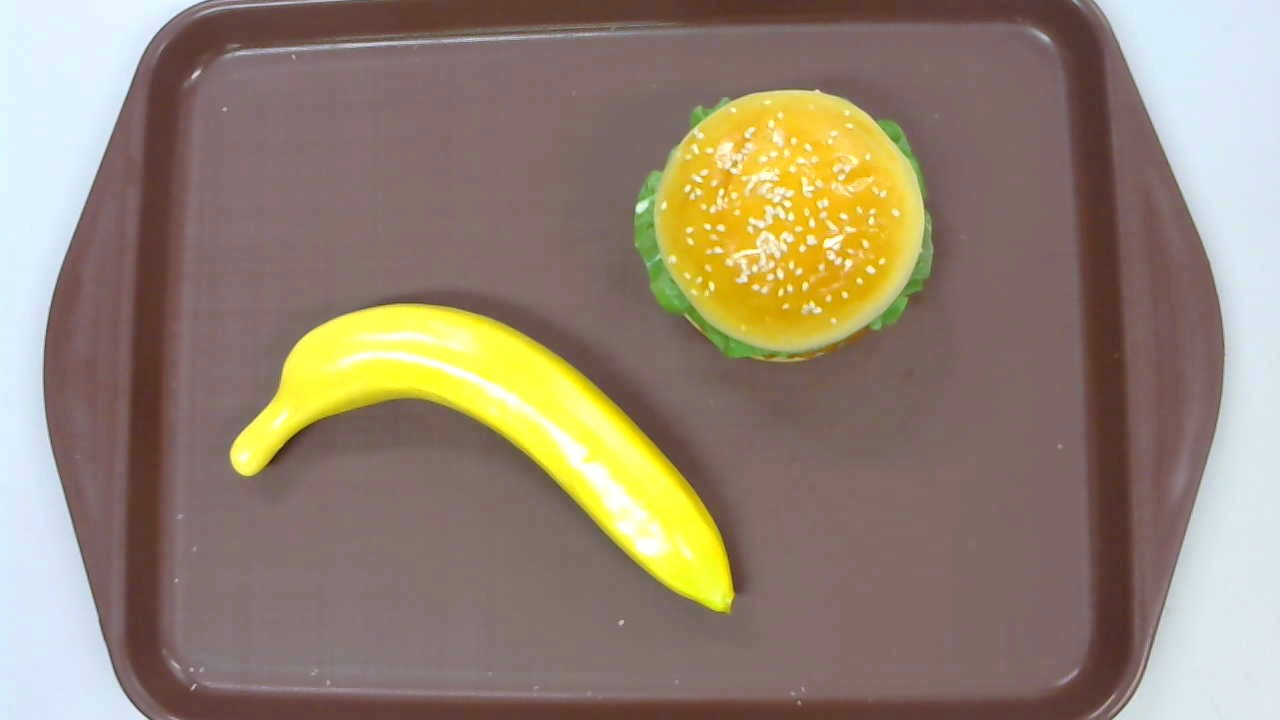banana: (229, 304, 736, 616)
hamburger: (631, 89, 935, 365)
